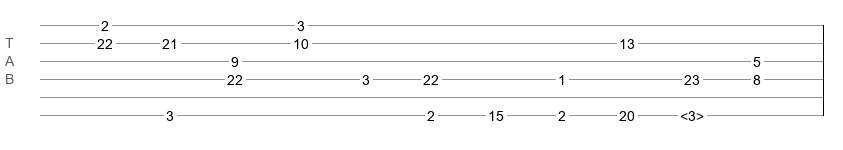1: (558, 72, 566, 82)
10: (293, 36, 309, 46)
13: (619, 36, 635, 46)
15: (488, 108, 504, 118)
2: (101, 18, 109, 28), (427, 108, 435, 118), (558, 108, 566, 118)
20: (619, 108, 635, 118)
21: (162, 36, 178, 46)
22: (97, 36, 113, 46), (227, 72, 243, 82), (423, 72, 439, 82)
23: (684, 72, 700, 82)
3: (166, 108, 174, 118), (297, 18, 305, 28), (362, 72, 370, 82)
5: (753, 54, 761, 64)
8: (753, 72, 761, 82)
9: (231, 54, 239, 64)
harmonic: (680, 108, 704, 118)
